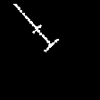double_crochet: (14, 4, 58, 50)
